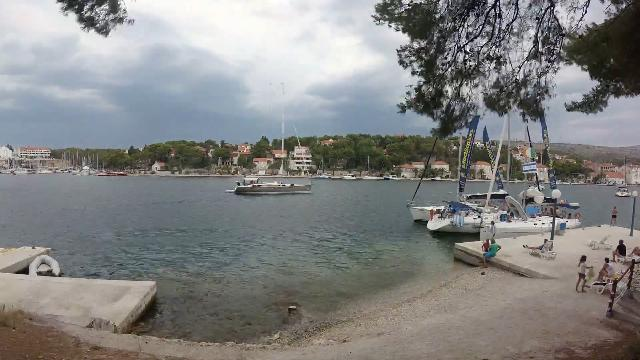Sailboat: (225, 173, 321, 199)
